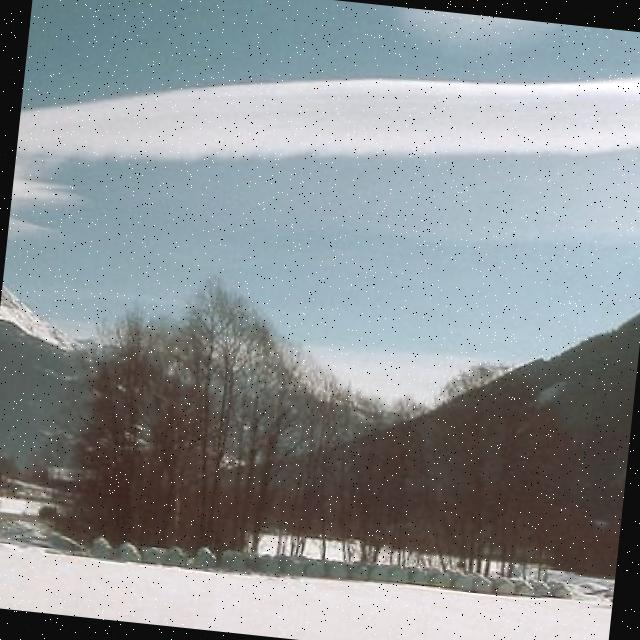Ac: (13, 1, 640, 254)
